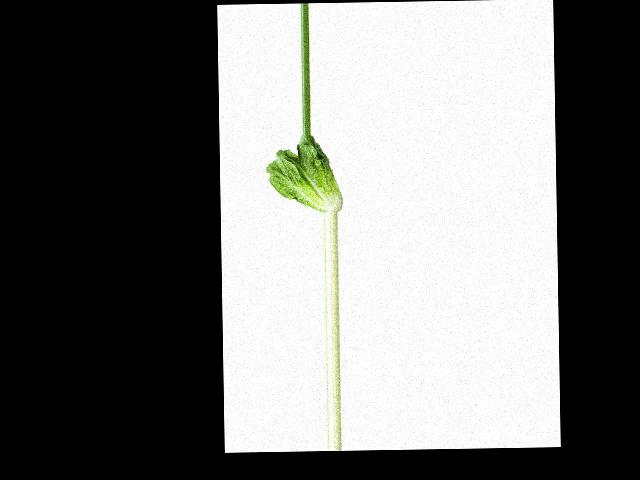lettuce: (264, 136, 343, 213)
